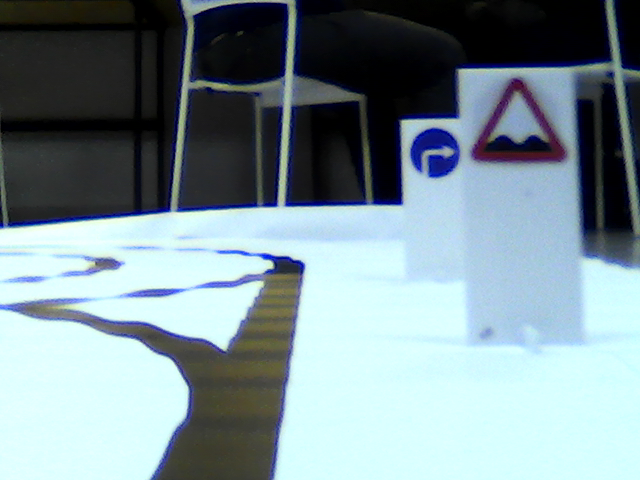Nerov: (474, 76, 567, 157)
Right: (409, 127, 461, 178)
